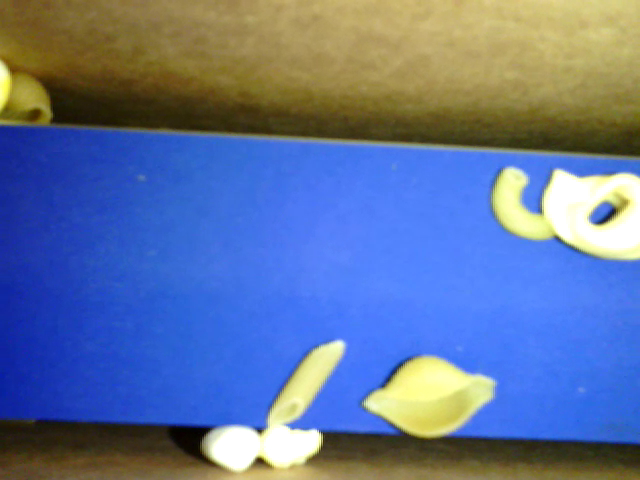elbow: (488, 166, 554, 244)
penne: (269, 338, 347, 425)
shell: (362, 351, 495, 442), (1, 70, 56, 129)
tortellini: (542, 168, 639, 264)
